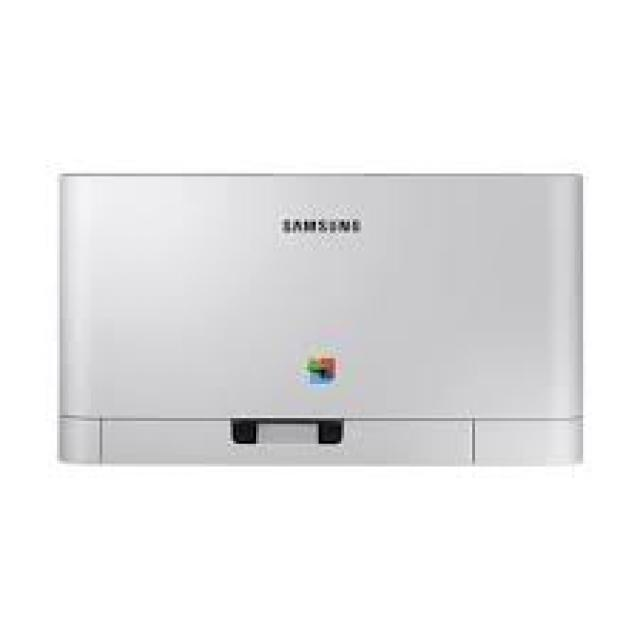printer: (46, 164, 590, 476)
